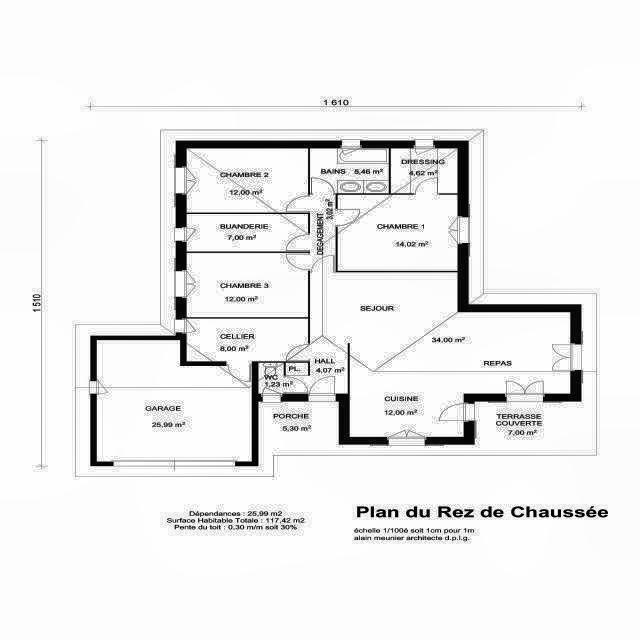room: (311, 272, 571, 437), (97, 340, 252, 462), (338, 195, 458, 271), (187, 148, 308, 213), (187, 253, 308, 317), (187, 319, 308, 361), (187, 214, 308, 251), (310, 148, 389, 193), (391, 148, 457, 193), (310, 195, 335, 271), (258, 363, 282, 394), (286, 376, 310, 393), (286, 363, 308, 375)
